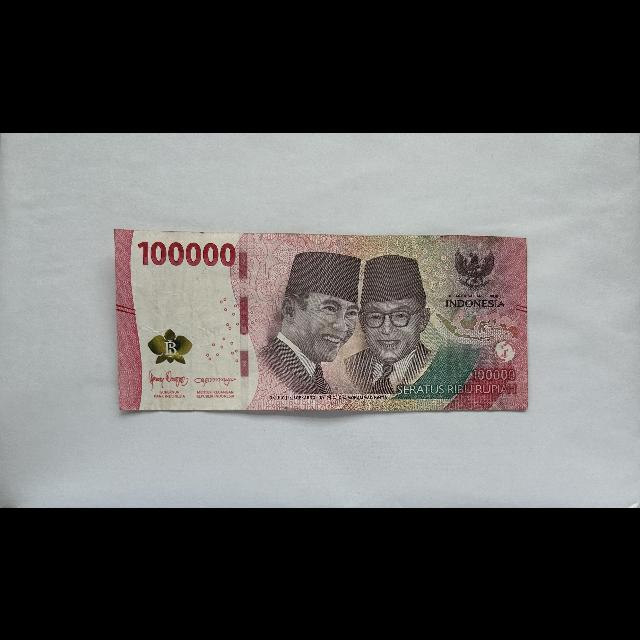Asli-100k: (114, 227, 531, 413)
Tinta-Asli-100k: (147, 327, 193, 364)
